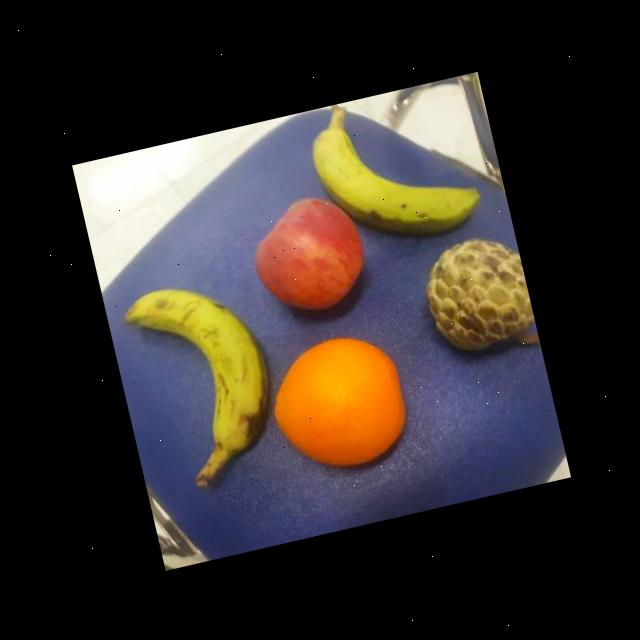Sakya fruit: (408, 225, 540, 372)
apple: (236, 182, 376, 322)
banana: (111, 264, 287, 472), (303, 92, 489, 258)
orange: (256, 320, 420, 484)
